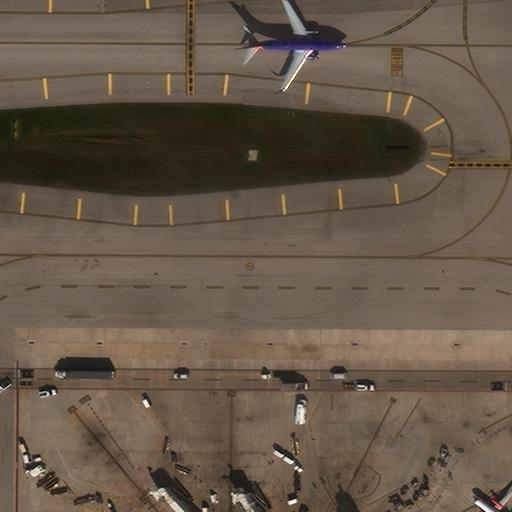Medium Civil Transport: (239, 0, 346, 92), (472, 488, 511, 512)
